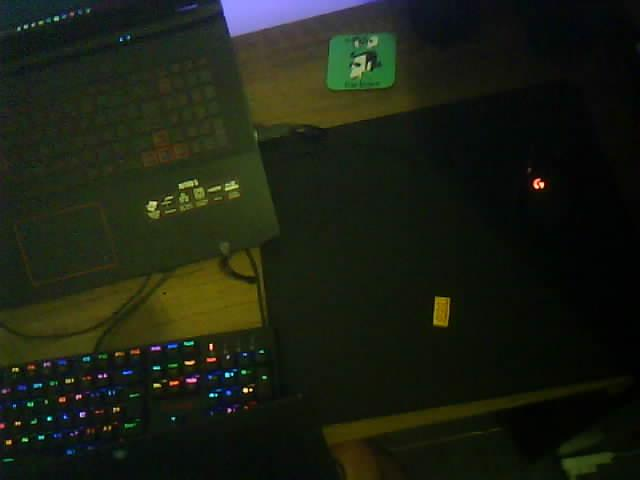lego: (432, 295, 451, 328)
